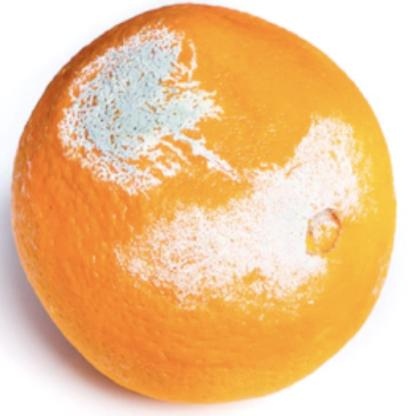rotten: (15, 5, 400, 400)
